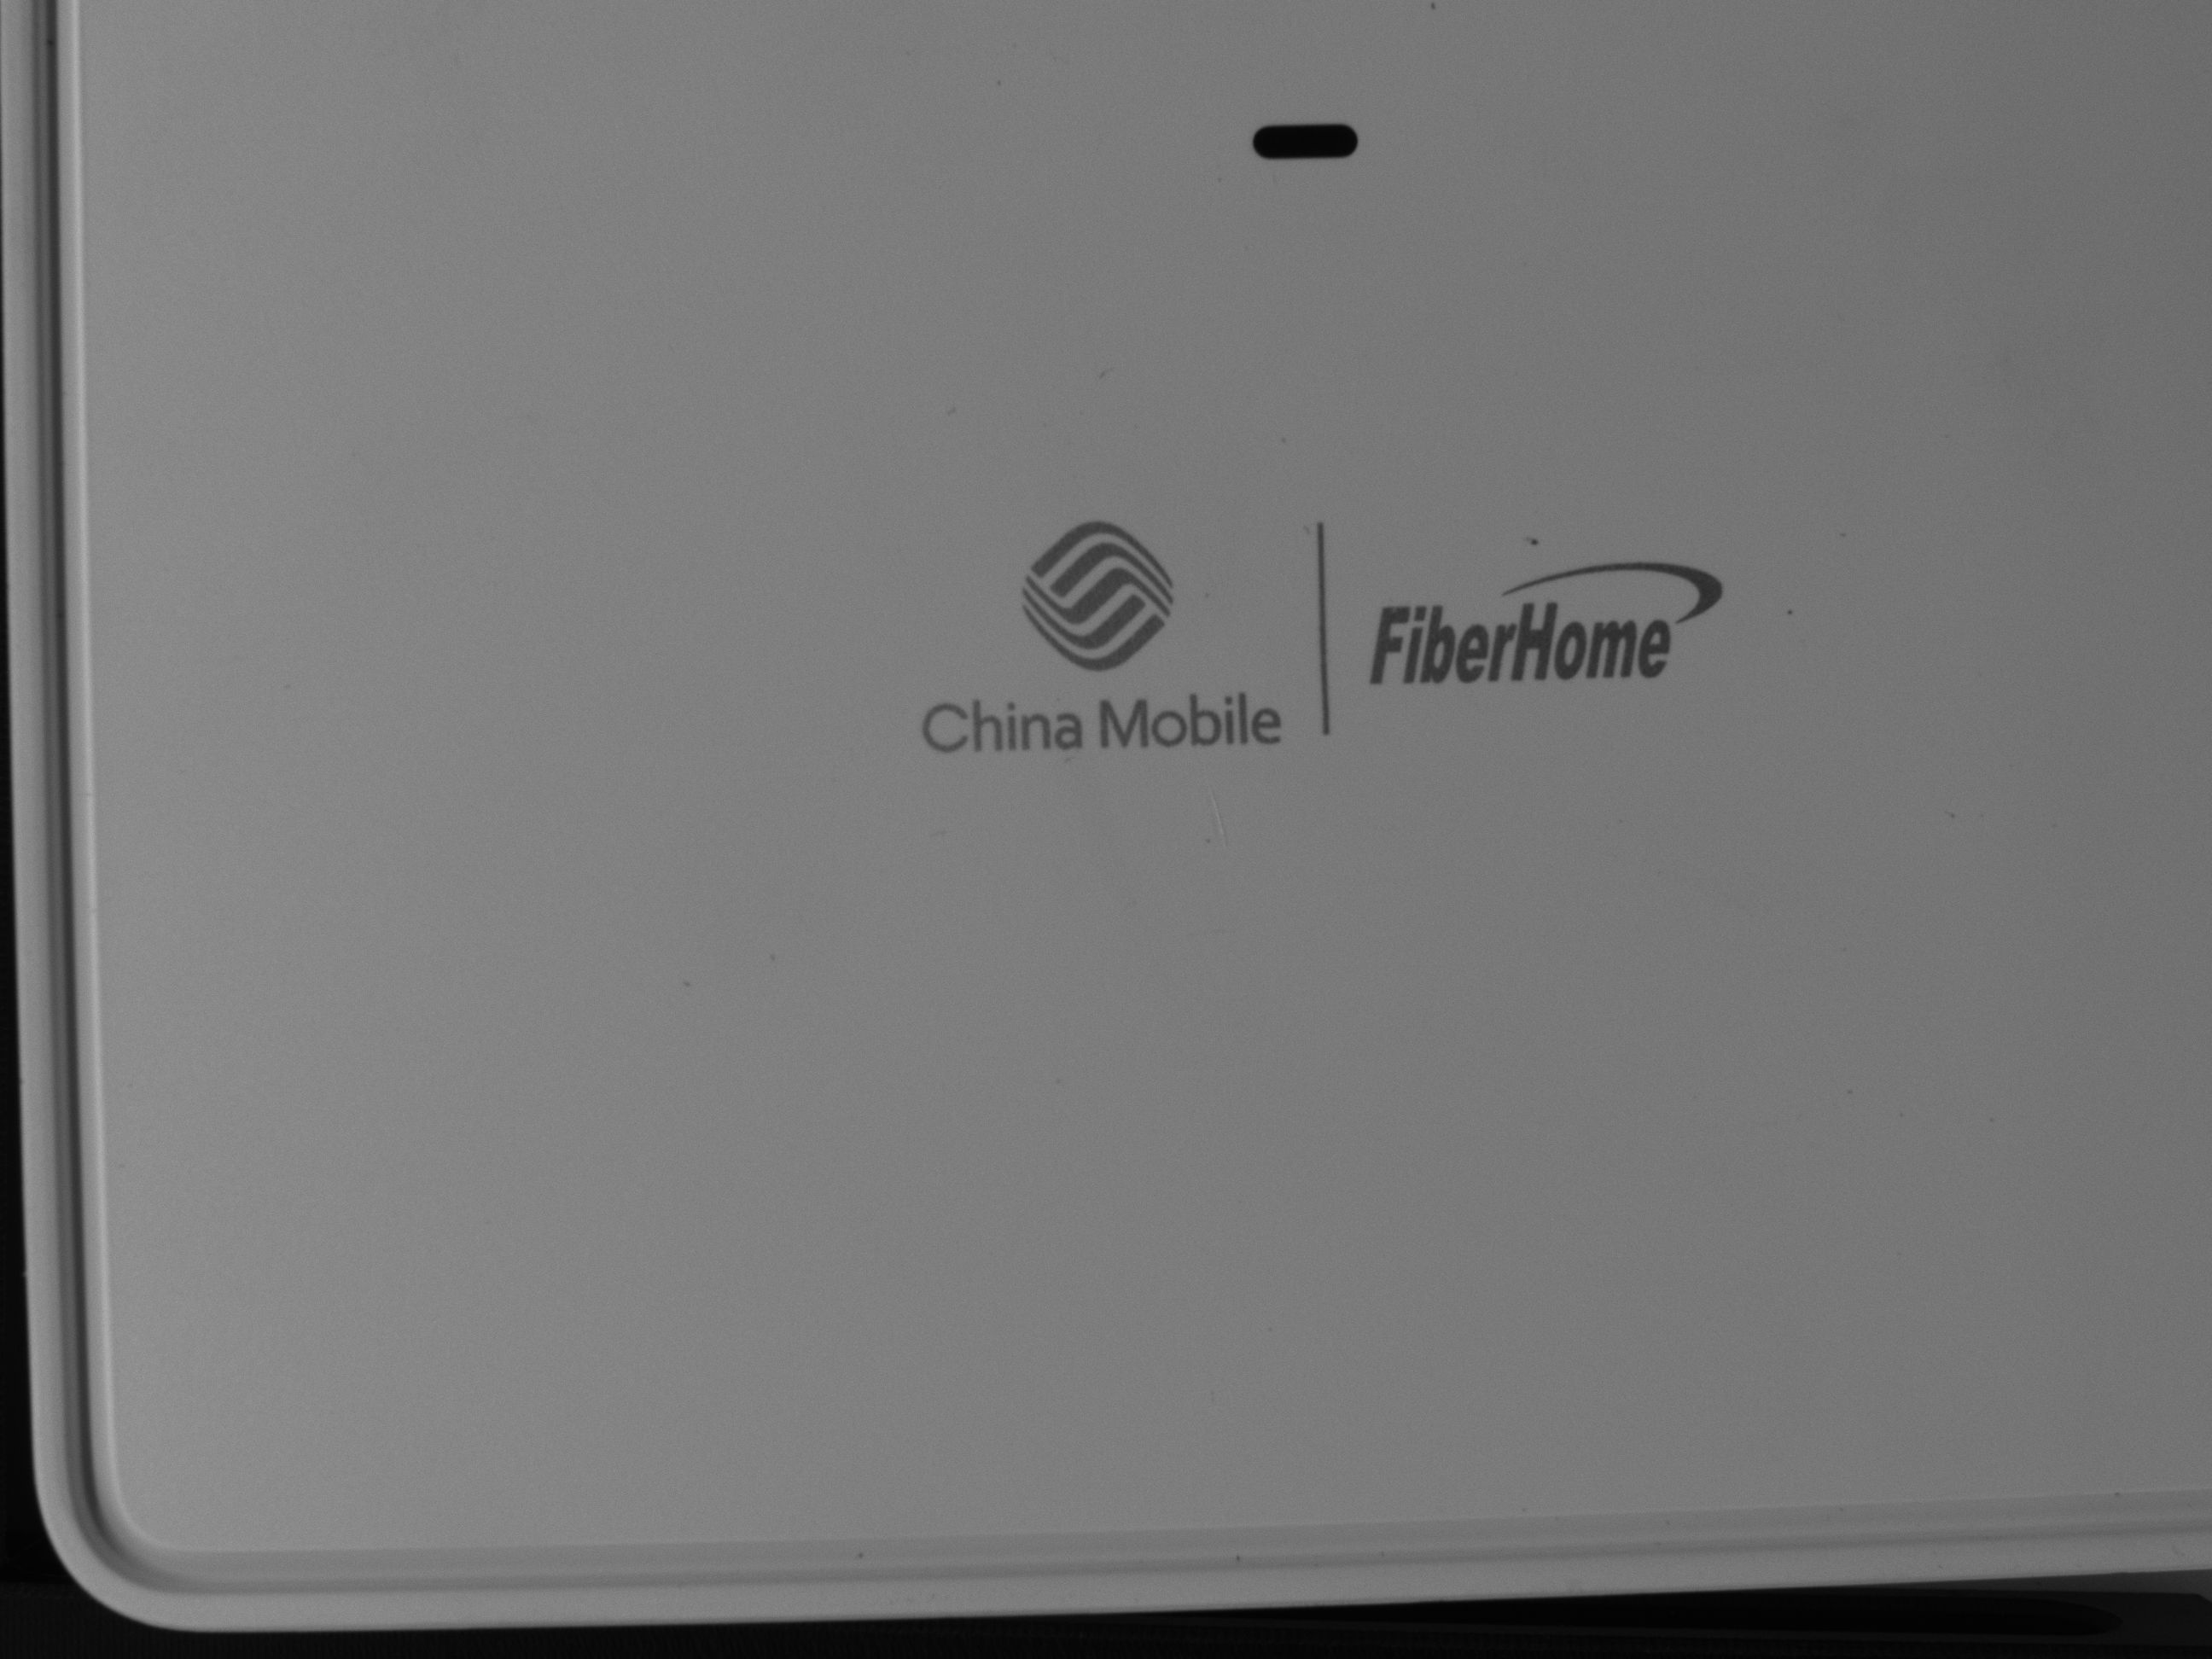BX_HG6371FMobileFiberhome: (902, 458, 1716, 770)
